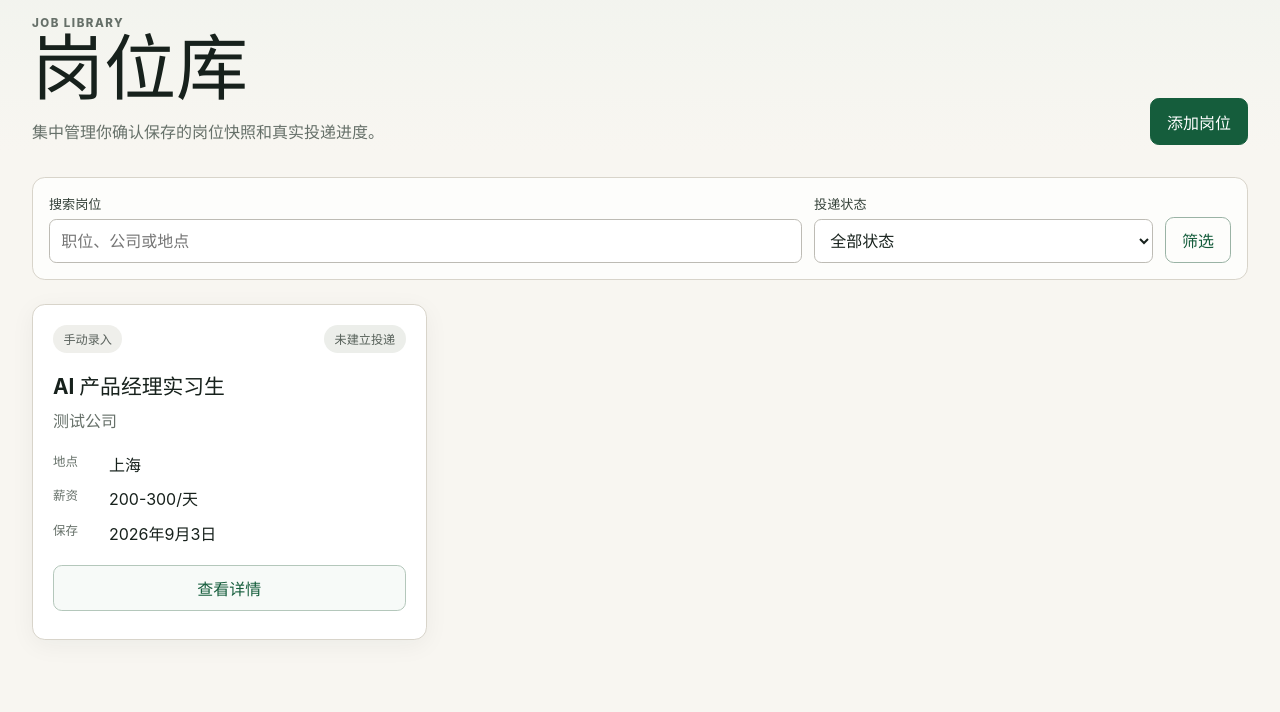
it: App › retains a stale result and offers explicit reanalysis
This screenshot has width=1280, height=712.
(page scrolled)
Click the button "查看详情": (229, 588) [53,565,406,611]
(page scrolled)
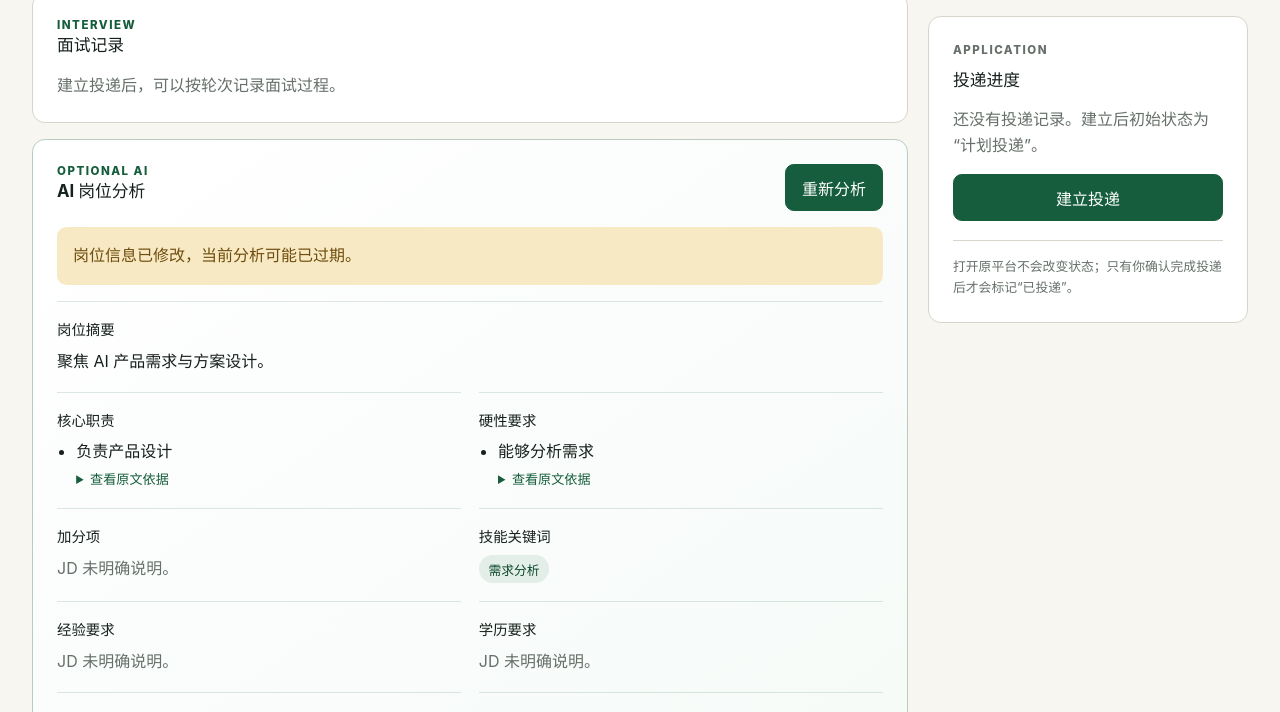
Expected: the text "岗位信息已修改，当前分析可能已过期。" is shown, [57,227,883,285]
Expected: the button "重新分析" is enabled, [785,164,883,211]
Expected: the text "聚焦 AI 产品需求与方案设计。" is shown, [57,350,273,370]
